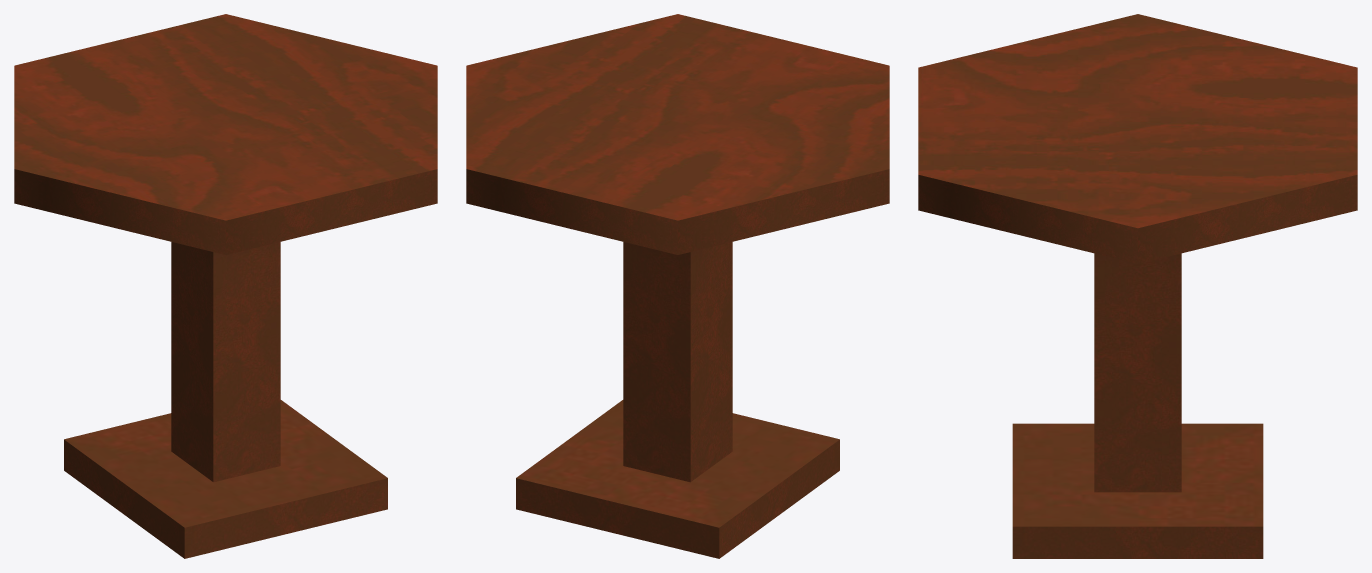
The model's file is small_table.fbx.
3 renders of one model, left to right at view 1: azimuth 30°, elevation 25°; view 2: azimuth 150°, elevation 25°; view 3: azimuth 270°, elevation 25°, orthographic. The views are drawn at different scales.
Parts seen in each view (by area): view 1: small_table; view 2: small_table; view 3: small_table.
Boxes of the visible parts, left/top/right/bottom form: small_table: left=14, top=14, right=437, bottom=558; small_table: left=466, top=14, right=889, bottom=558; small_table: left=918, top=14, right=1357, bottom=558.
Bounding box in the file's own units: 24838 × 20881 × 21510.
1 material, 1 textured.
